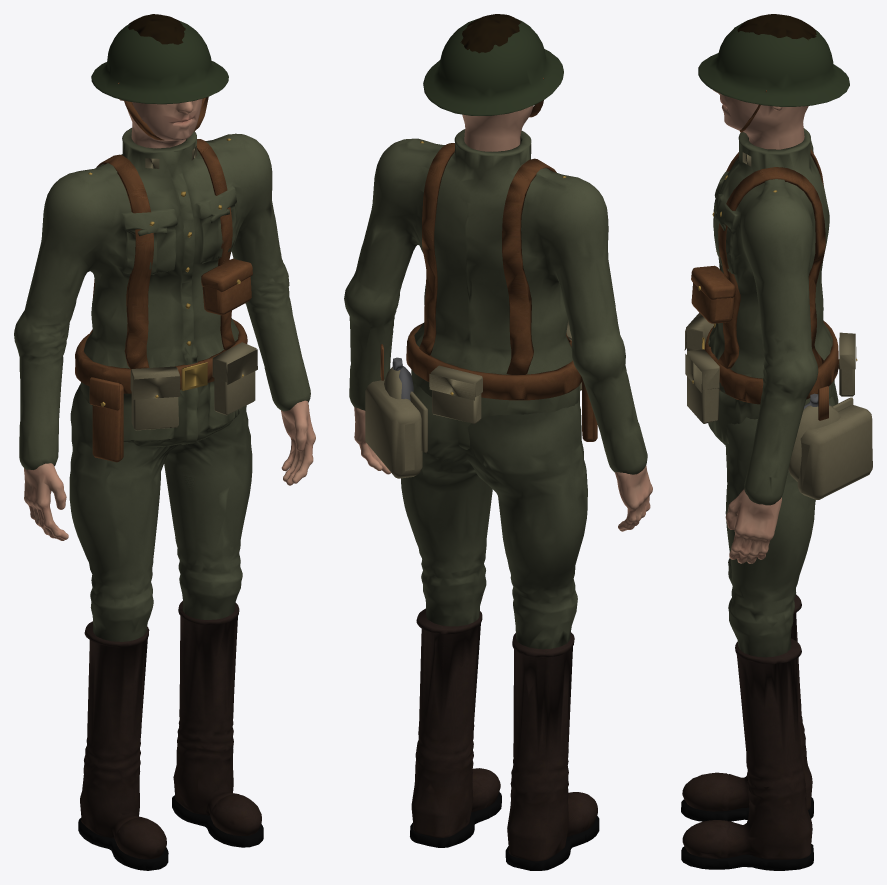
Rendered from soldier.glb.
3 renders of one model, left to right at view 1: azimuth 30°, elevation 25°; view 2: azimuth 150°, elevation 25°; view 3: azimuth 270°, elevation 25°, orthographic. The views are drawn at different scales.
Parts seen in each view (by area): view 1: soldier_gunner_tunic, soldier_gunner_trousers, soldier_gunner_boot, soldier_gunner_leather, soldier_gunner_helmet, soldier_gunner_skin, soldier_gunner_canvas, soldier_gunner_sole, soldier_gunner_hair, soldier_gunner_brass; view 2: soldier_gunner_tunic, soldier_gunner_trousers, soldier_gunner_boot, soldier_gunner_leather, soldier_gunner_helmet, soldier_gunner_canvas, soldier_gunner_skin, soldier_gunner_sole, soldier_gunner_hair; view 3: soldier_gunner_tunic, soldier_gunner_boot, soldier_gunner_trousers, soldier_gunner_canvas, soldier_gunner_leather, soldier_gunner_helmet, soldier_gunner_skin, soldier_gunner_sole, soldier_gunner_hair.
Part boxes in pixels (x1,y1,x2,y2): soldier_gunner_tunic: [14, 128, 310, 469]; soldier_gunner_trousers: [69, 384, 252, 641]; soldier_gunner_boot: [80, 601, 261, 859]; soldier_gunner_leather: [75, 82, 252, 462]; soldier_gunner_helmet: [91, 20, 228, 104]; soldier_gunner_skin: [24, 98, 315, 540]; soldier_gunner_canvas: [130, 146, 257, 430]; soldier_gunner_sole: [78, 795, 263, 870]; soldier_gunner_hair: [128, 14, 185, 44]; soldier_gunner_brass: [88, 138, 243, 406]; soldier_gunner_tunic: [344, 129, 647, 474]; soldier_gunner_trousers: [401, 381, 587, 649]; soldier_gunner_boot: [411, 608, 597, 861]; soldier_gunner_leather: [380, 78, 597, 441]; soldier_gunner_helmet: [423, 18, 563, 115]; soldier_gunner_canvas: [365, 144, 581, 478]; soldier_gunner_skin: [354, 105, 652, 531]; soldier_gunner_sole: [410, 792, 599, 870]; soldier_gunner_hair: [460, 14, 521, 53]; soldier_gunner_tunic: [708, 128, 834, 505]; soldier_gunner_boot: [682, 594, 812, 859]; soldier_gunner_trousers: [725, 384, 838, 657]; soldier_gunner_canvas: [684, 152, 872, 499]; soldier_gunner_leather: [691, 90, 838, 420]; soldier_gunner_helmet: [698, 20, 849, 106]; soldier_gunner_skin: [713, 90, 808, 563]; soldier_gunner_sole: [681, 797, 813, 870]; soldier_gunner_hair: [737, 14, 816, 40].
Size of the model in its own units: 0.6614 by 1.78 by 0.378.
15 materials, 6 textured.
